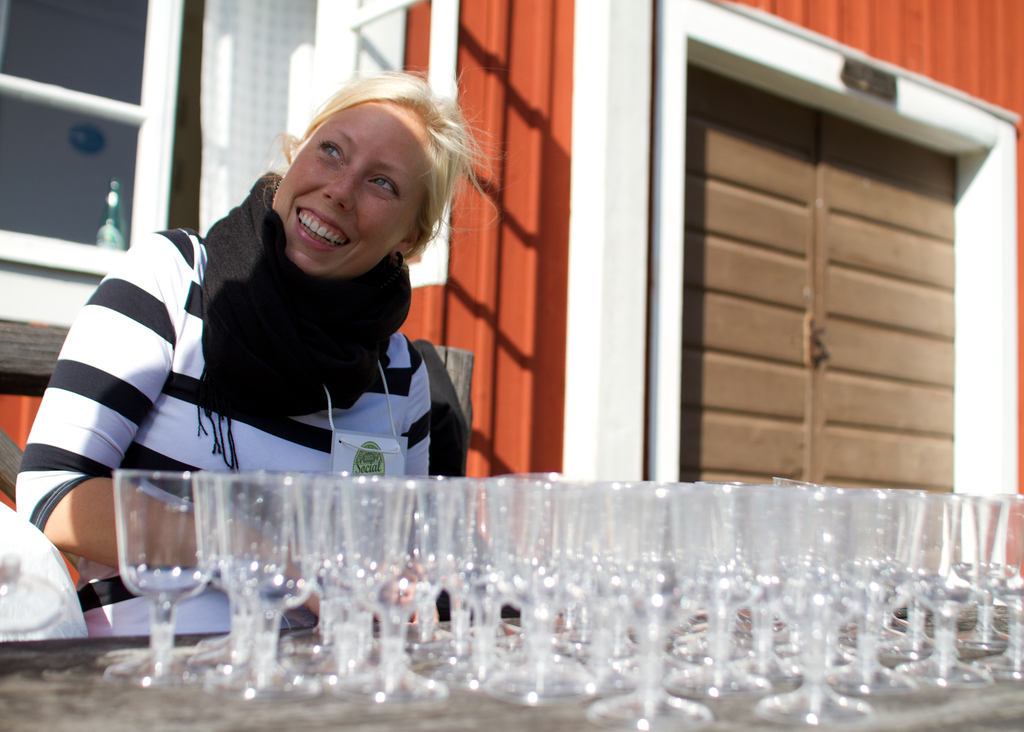Door: (678, 68, 959, 488)
